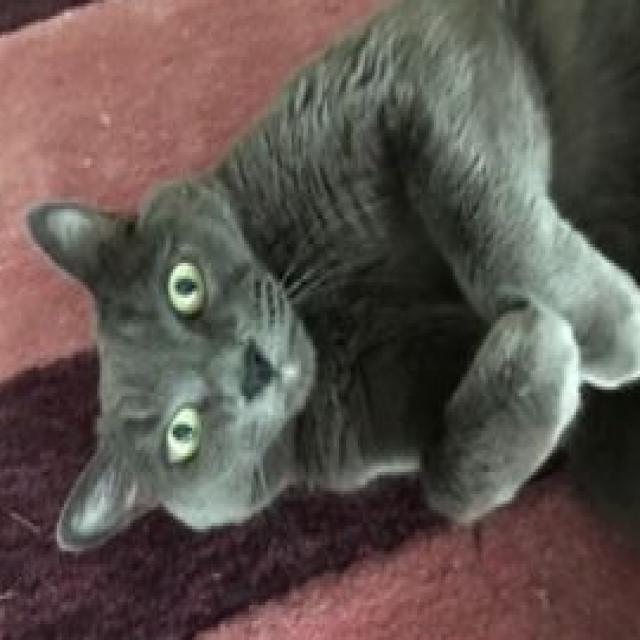Russian Blue: (19, 0, 640, 554)
